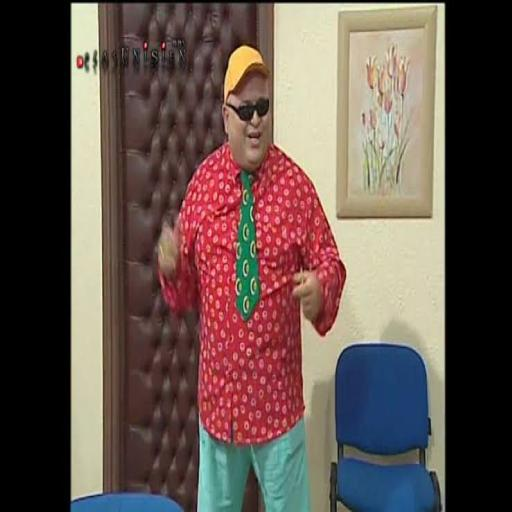sboui: (222, 46, 270, 171)
